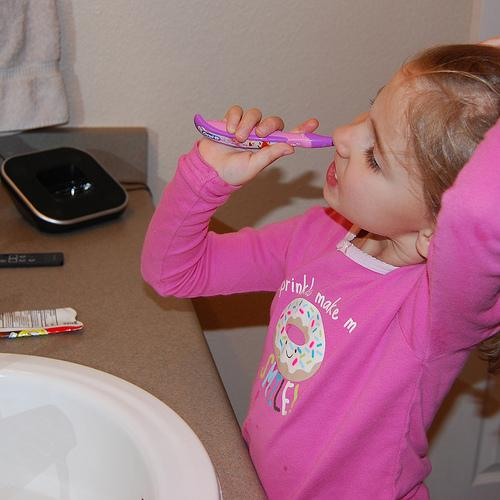person: (138, 42, 500, 500)
